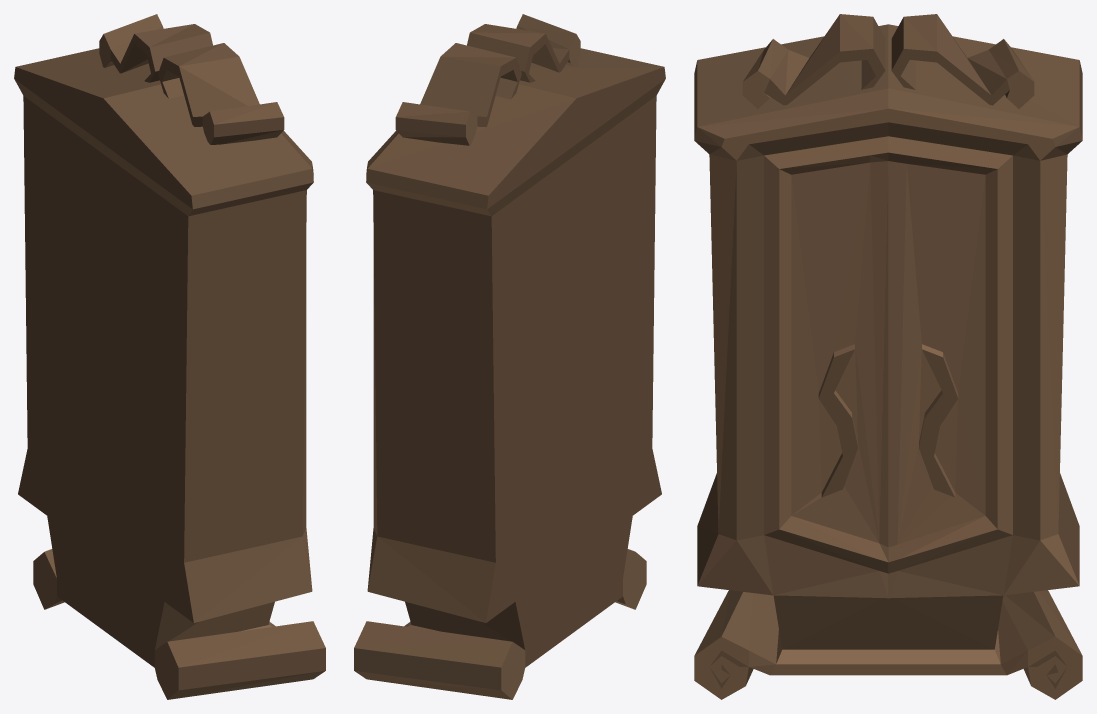
File: armour-case.gltf
3 renders of one model, left to right at view 1: azimuth 30°, elevation 25°; view 2: azimuth 150°, elevation 25°; view 3: azimuth 270°, elevation 25°, orthographic. The views are drawn at different scales.
Size of the model in its own units: 56 by 234 by 128.
Materials: 1 (1 with a texture image).
